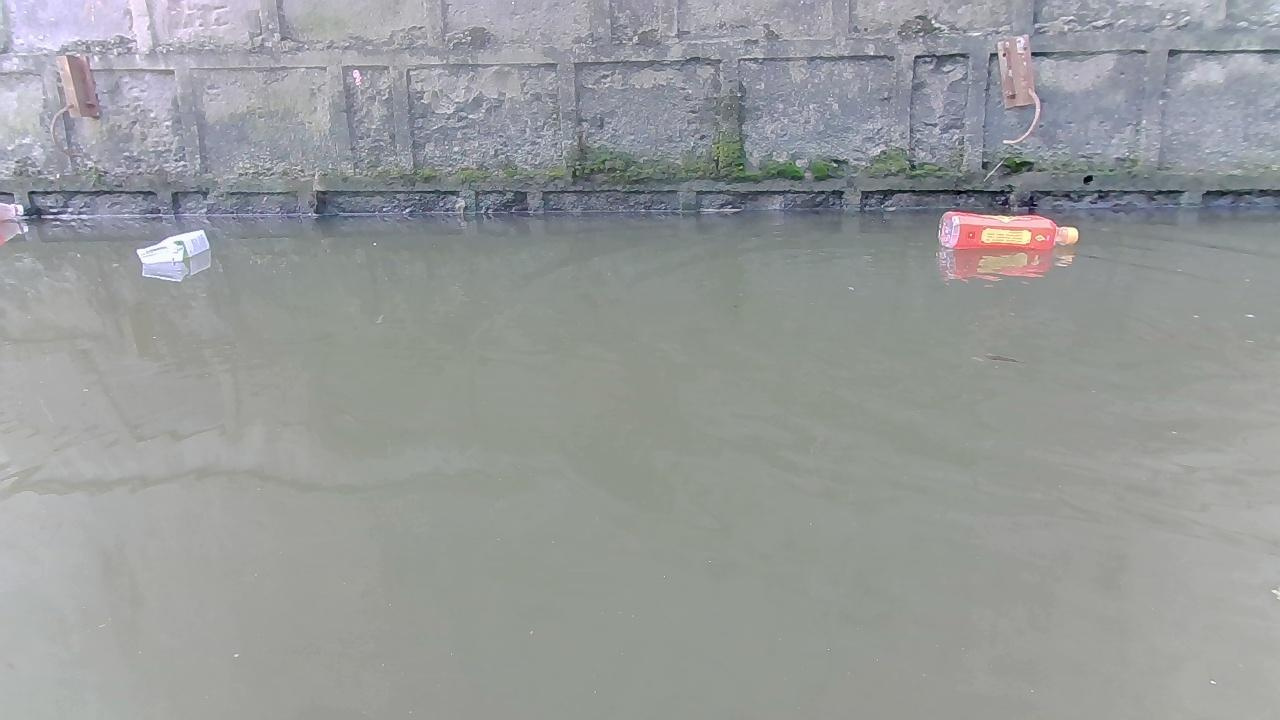bottle: (940, 207, 1076, 251), (130, 230, 211, 267)
